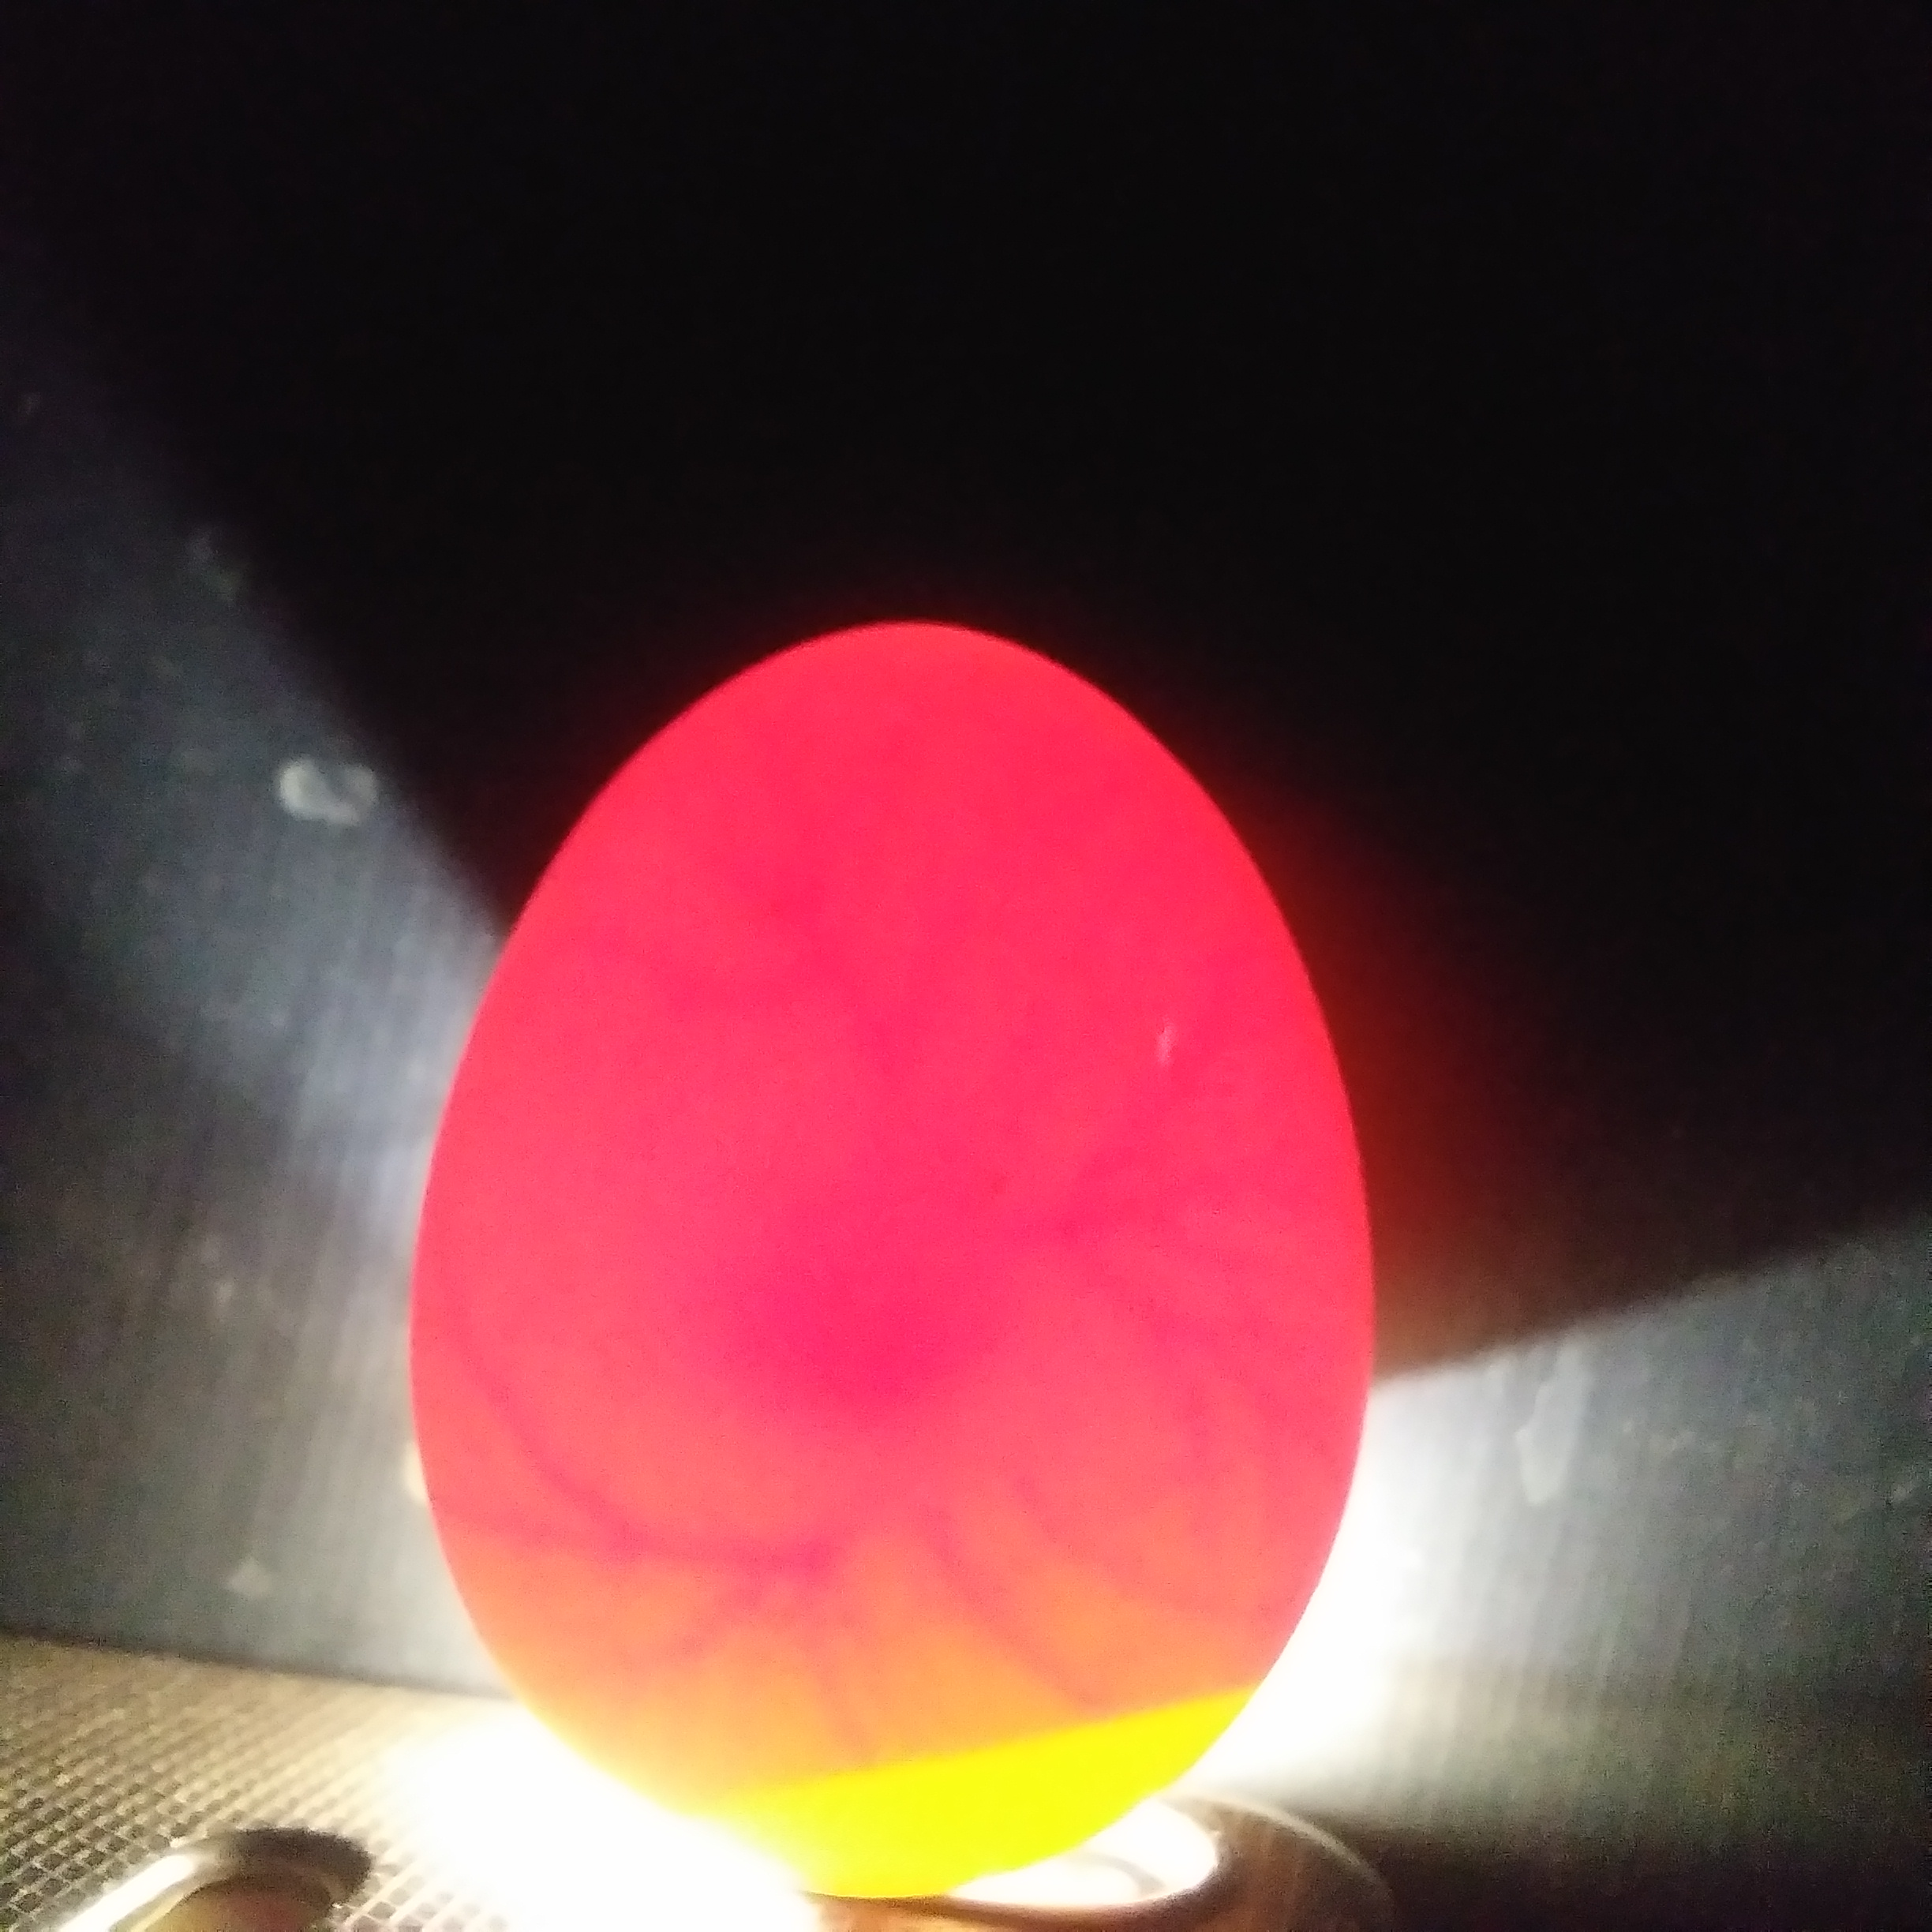bloodcell: (759, 1428, 1217, 1707), (994, 1083, 1332, 1385), (456, 1378, 741, 1642)
